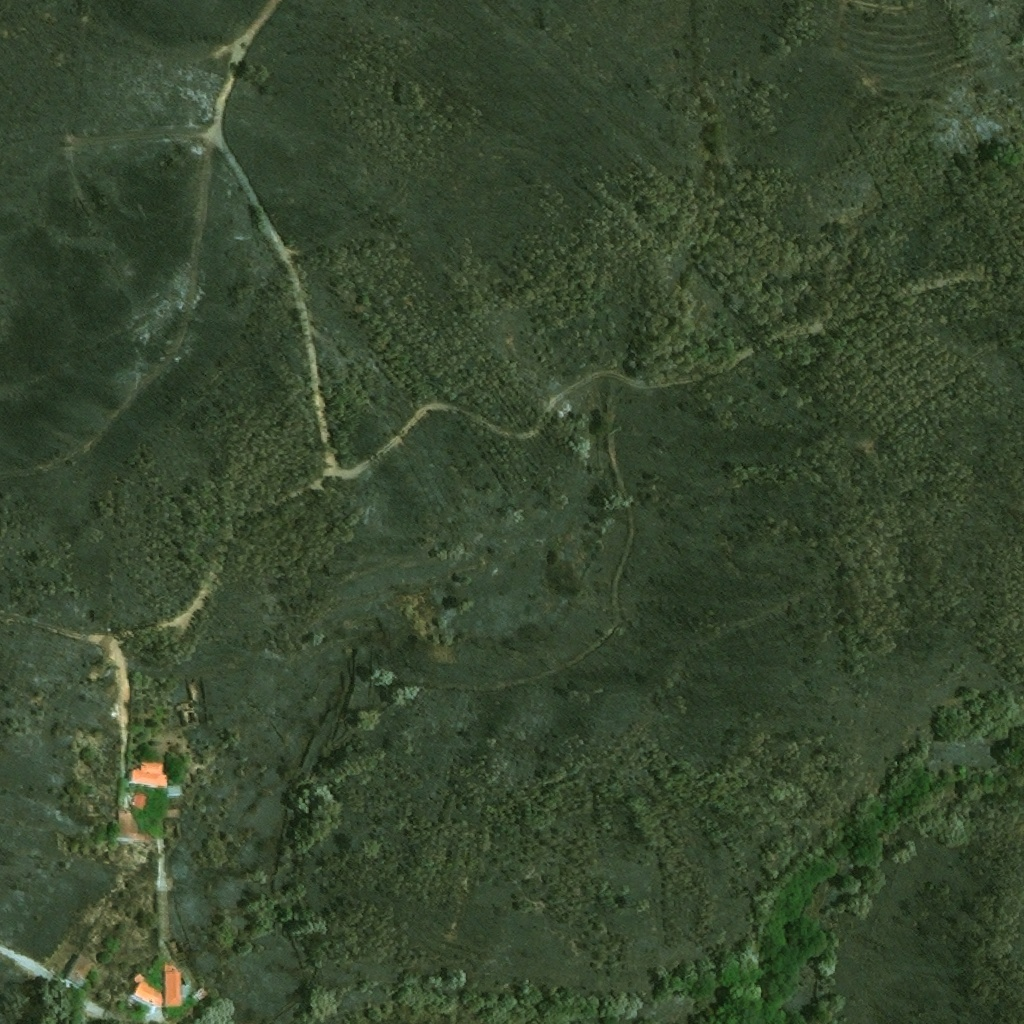0 no-damage: (129, 961, 191, 1011), (64, 954, 95, 987), (130, 760, 169, 786), (117, 811, 153, 839), (130, 791, 148, 809), (192, 985, 209, 1002), (168, 785, 183, 796)
3 destroyed: (180, 700, 200, 726), (167, 807, 180, 818)
